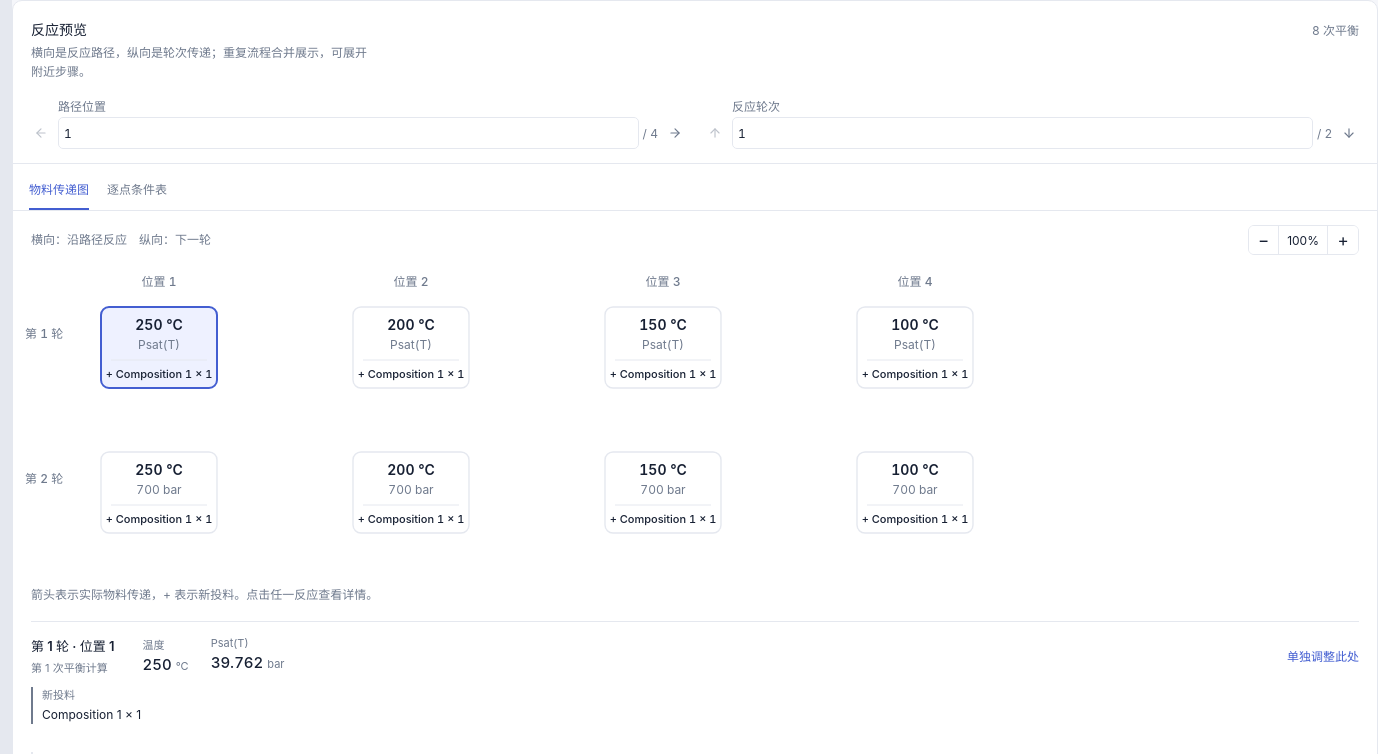
Test: does not select an out-of-range coordinate while a number field is being edited
The image size is (1378, 754).
Replace the text in the number field named "预览路径位置" with "100" at (348, 133), box [58,117,638,149]
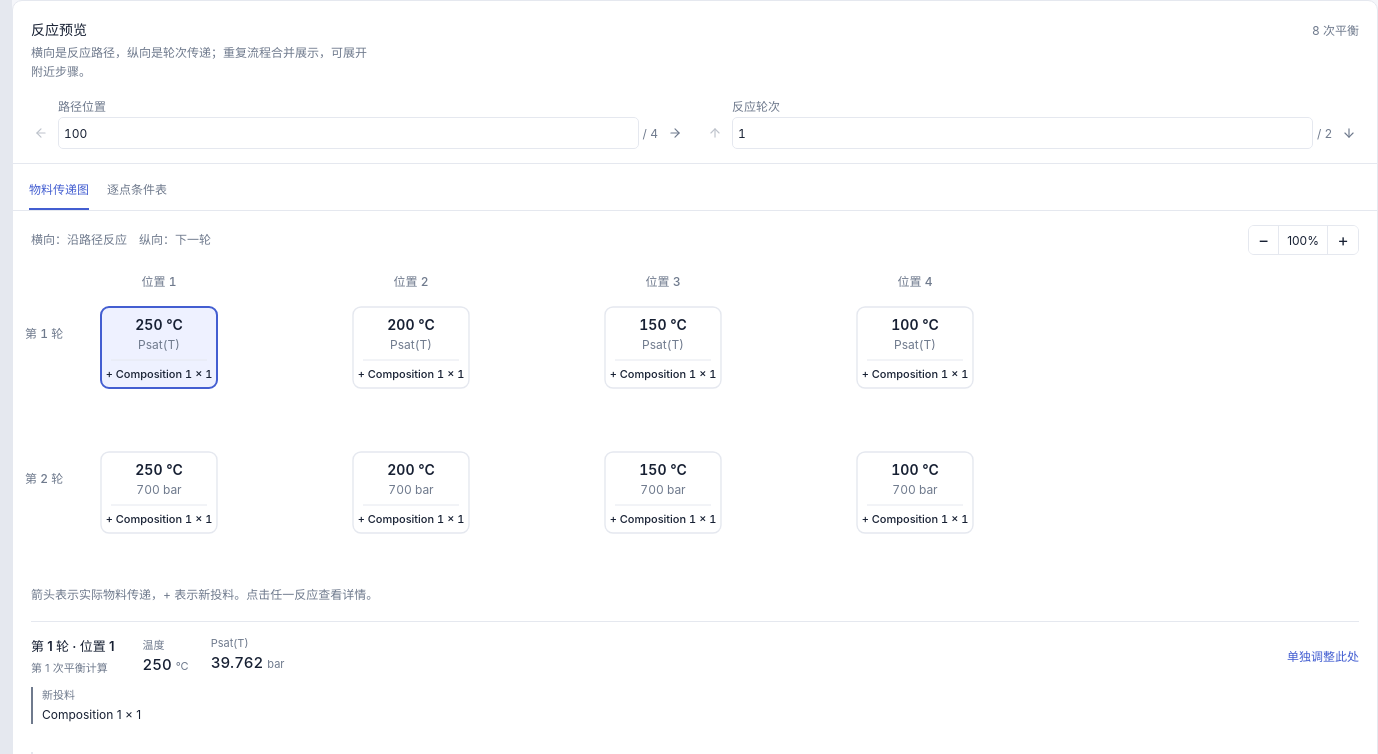
Check: the element labelled "第 1 轮 · 位置 1" is shown, box [31,621,1359,724]
Check: the number field named "预览路径位置" is marked as invalid
Leave the number field named "预览路径位置", box [58,117,638,149]
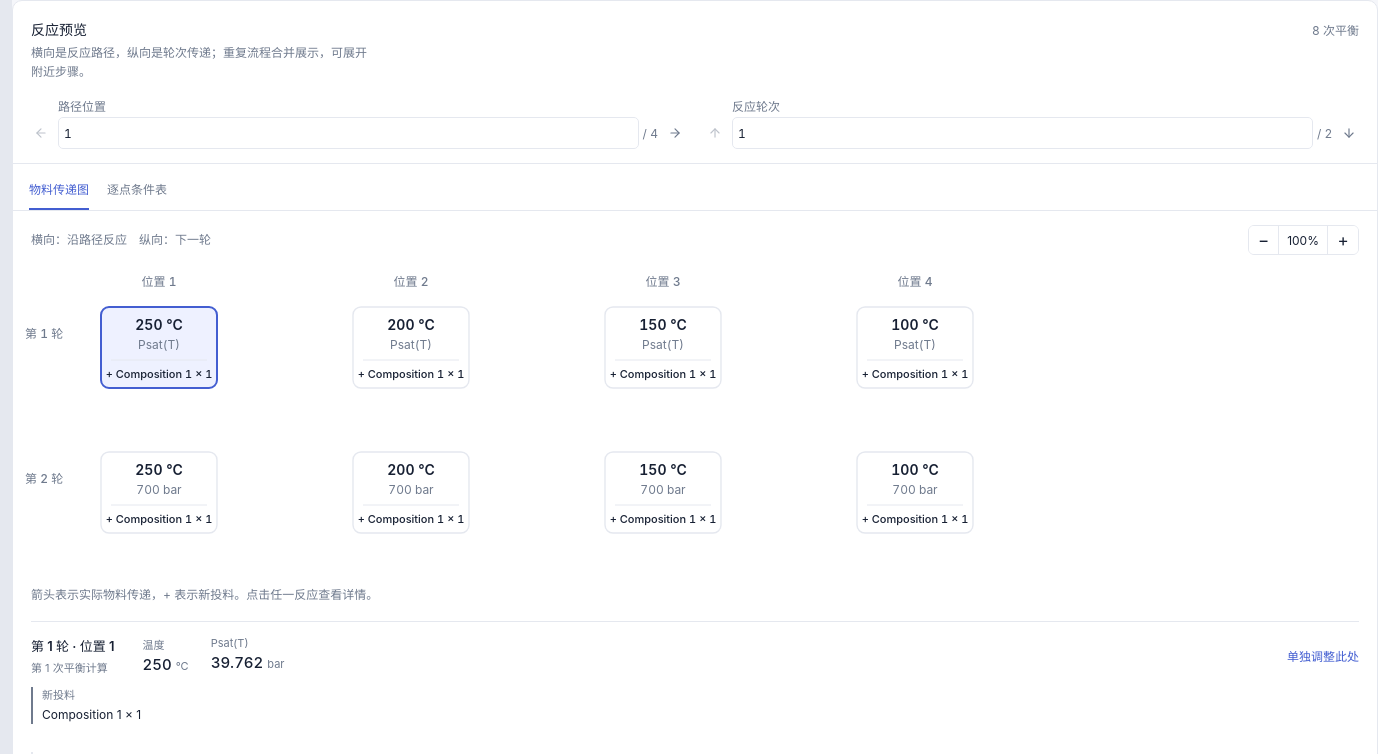
Check: the number field named "预览路径位置" holds "1", box [58,117,638,149]
